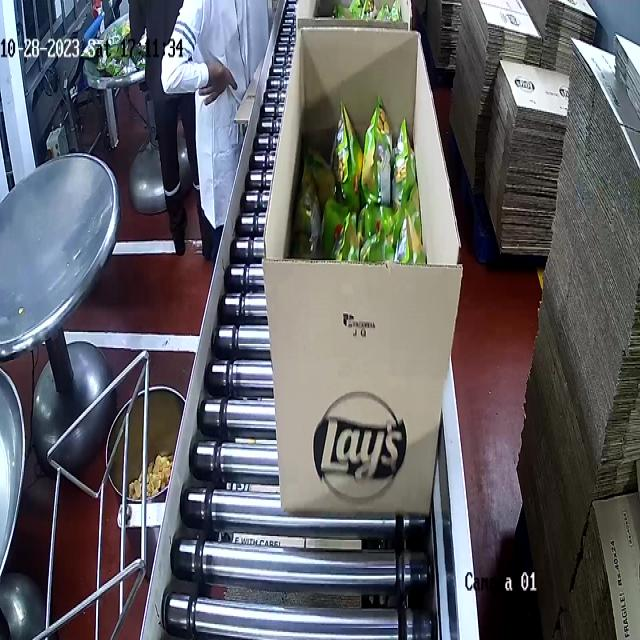YOGURT_HERB: (300, 100, 431, 265)
